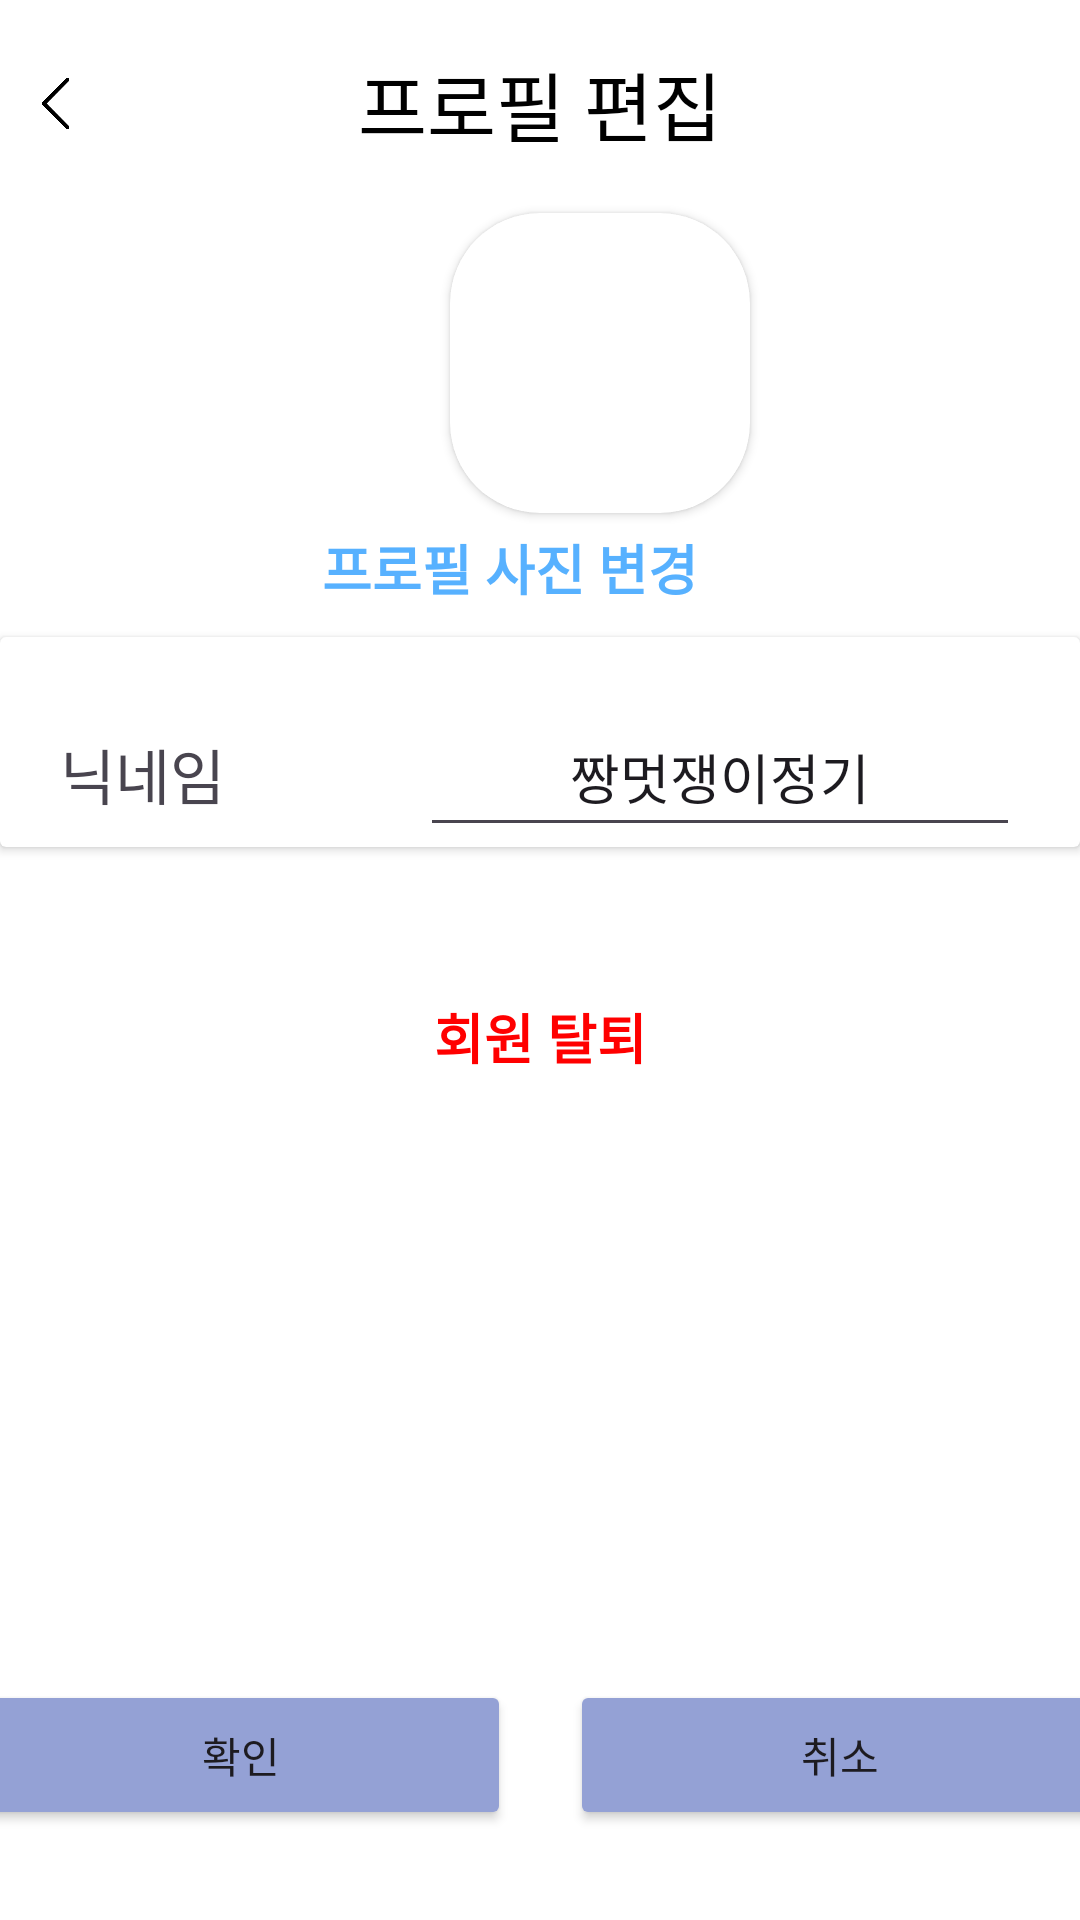

Where icons sit on this 1080px x 1920px app screen, as {"left": x1, "top": y1, "right": x2, "bottom": y2}:
back: {"left": 42, "top": 78, "right": 69, "bottom": 129}
